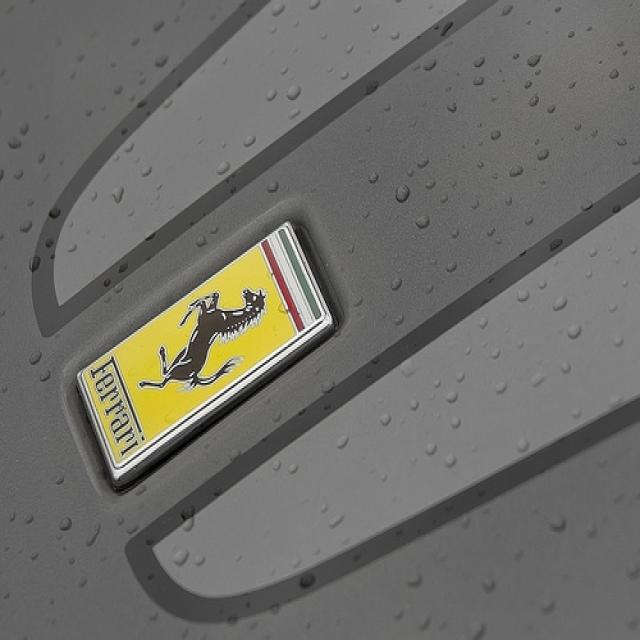ferrari: (79, 222, 324, 474)
